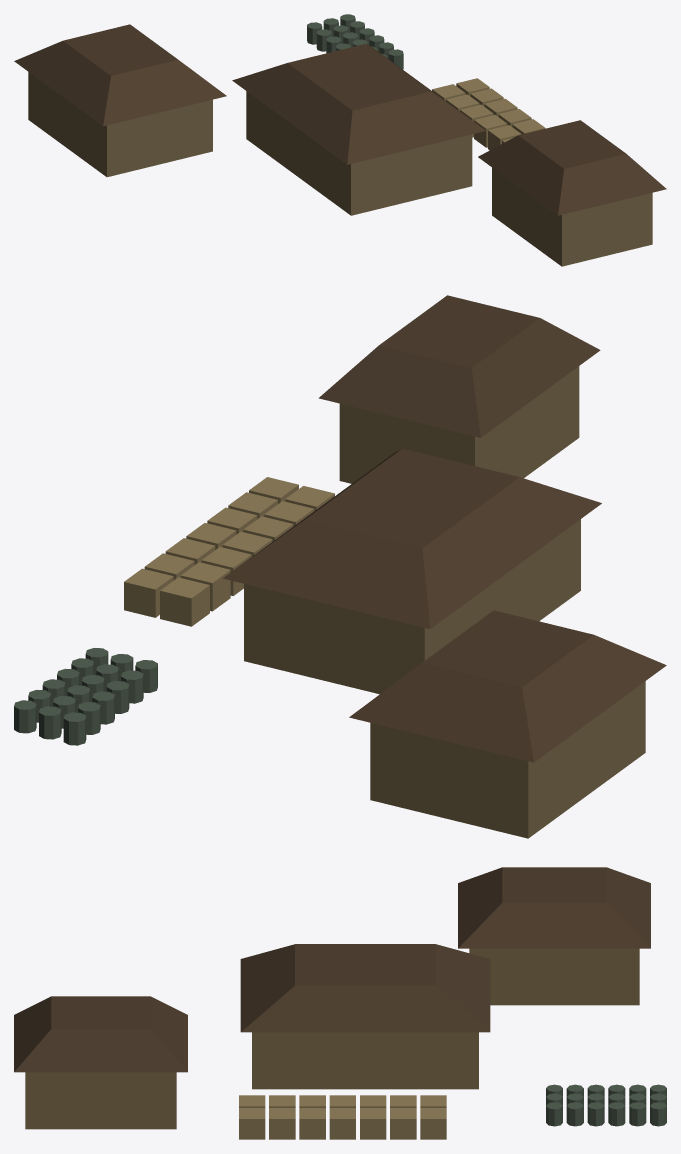
The model's file is supply_dump.glb.
The picture shows the model from 3 angles, top to bottom: view 1: azimuth 30°, elevation 25°; view 2: azimuth 150°, elevation 25°; view 3: azimuth 270°, elevation 25°; orthographic projection. The views are drawn at different scales.
Parts seen in each view (by area): view 1: Hull; view 2: Hull; view 3: Hull.
Boxes of the visible parts, bbox=[...] form: Hull: bbox=[14, 14, 666, 266]; Hull: bbox=[14, 295, 666, 838]; Hull: bbox=[14, 867, 666, 1139].
Bounding box in the file's own units: 24.4 × 5.4 × 34.55.
